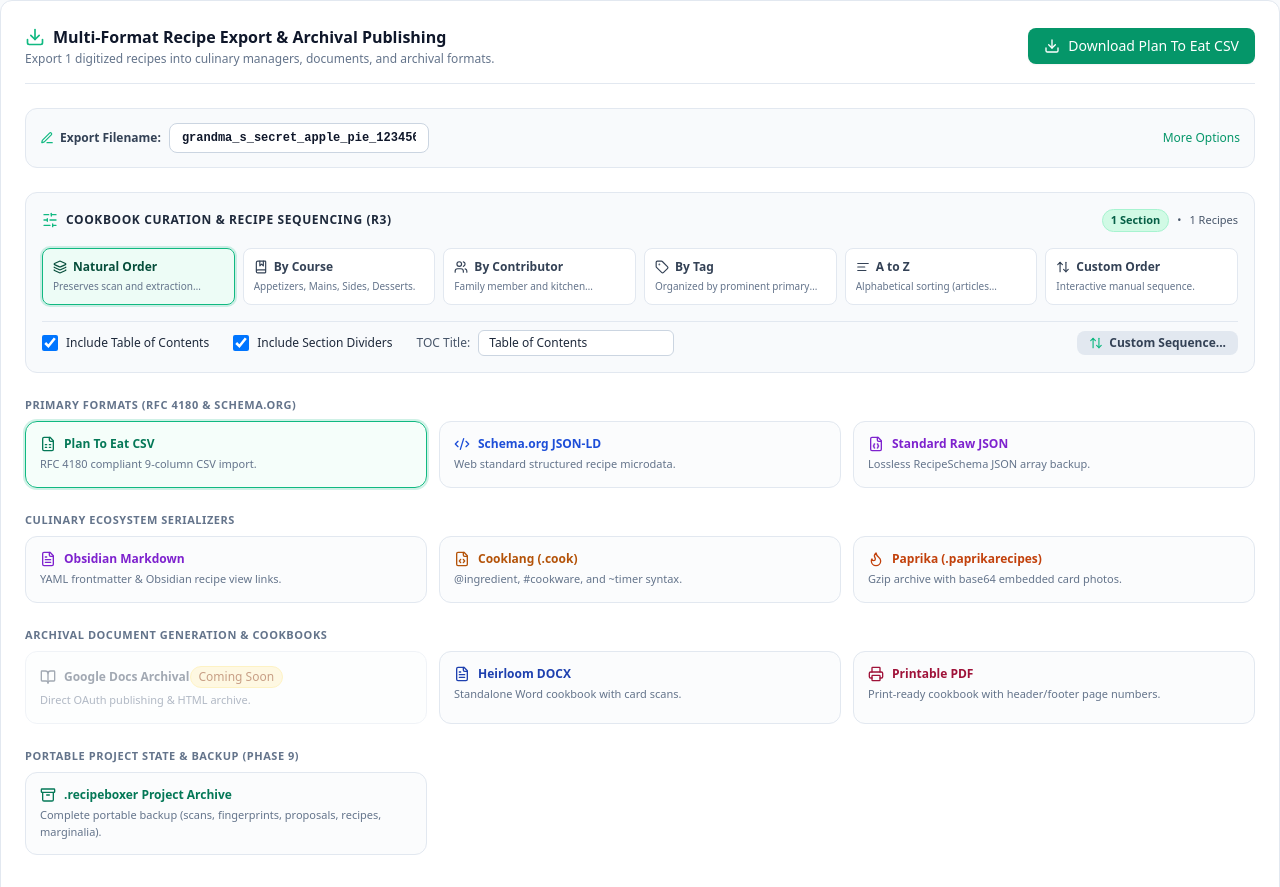
Test: R5: Multi-Format Recipe Export Subsystem › ExportDialog UI Component › GAP-04: allows editing filename and updates extension when switching format tabs
The image size is (1280, 887).
# Edit filename stem
Replace the text in the field labelled "Export Filename:" with "grandma_secret_pie_2026.csv" at (299, 138), box [169,123,429,153]
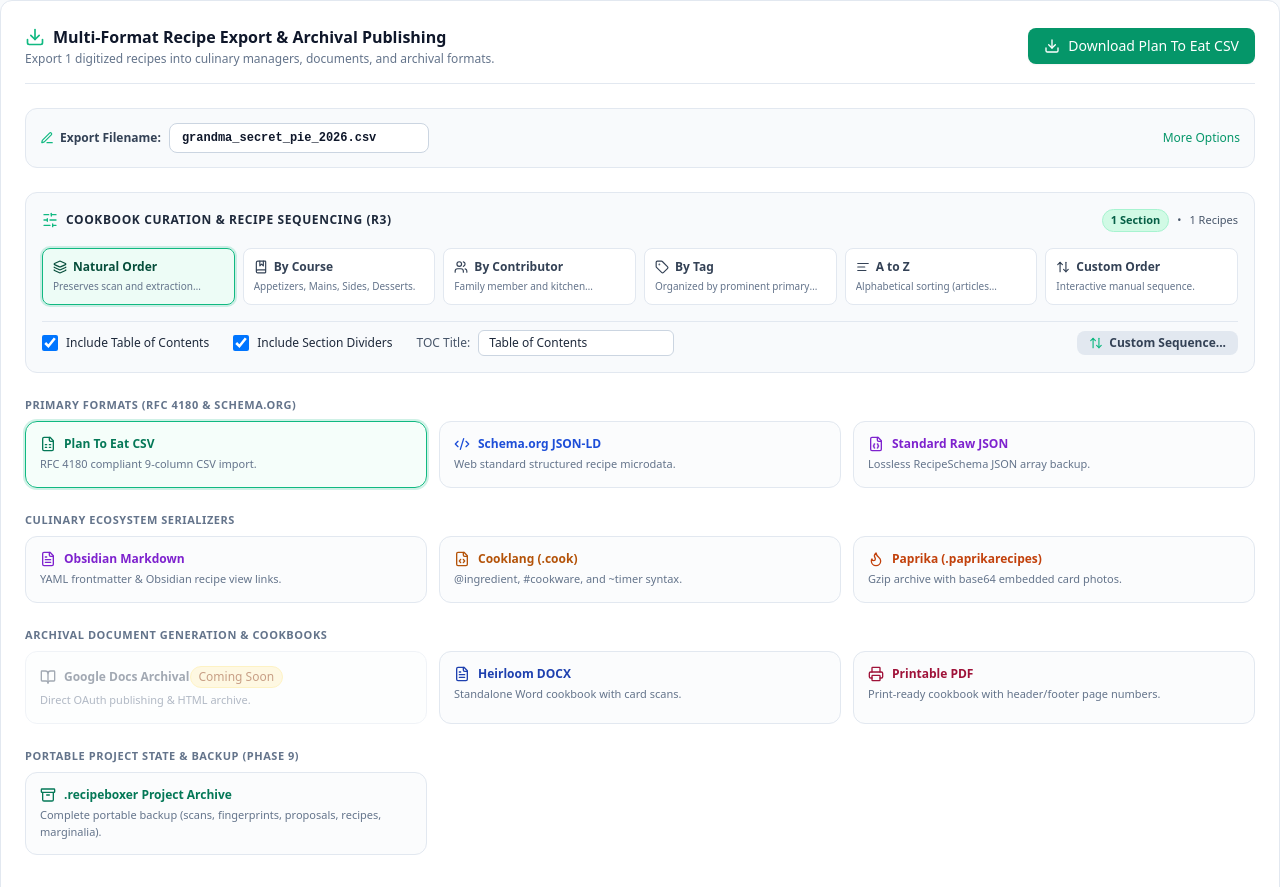
Click the button "Printable PDF" at (1054, 687), box [853,651,1255,724]
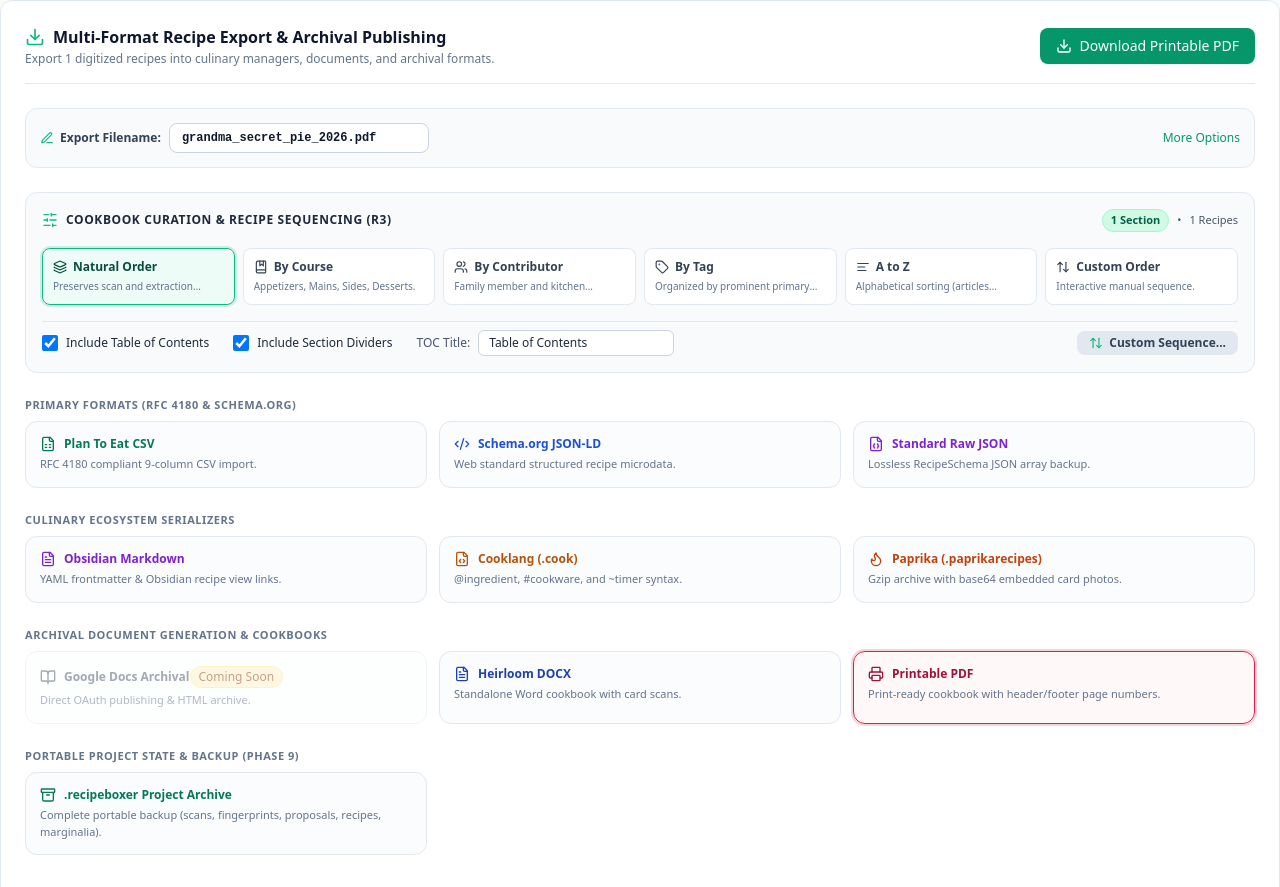
Now the field labelled "Export Filename:" holds "grandma_secret_pie_2026.pdf", box [169,123,429,153]
Click the button "Cooklang (.cook) @ingredient, #cookware, and ~timer syntax." at (640, 569), box [439,536,841,602]
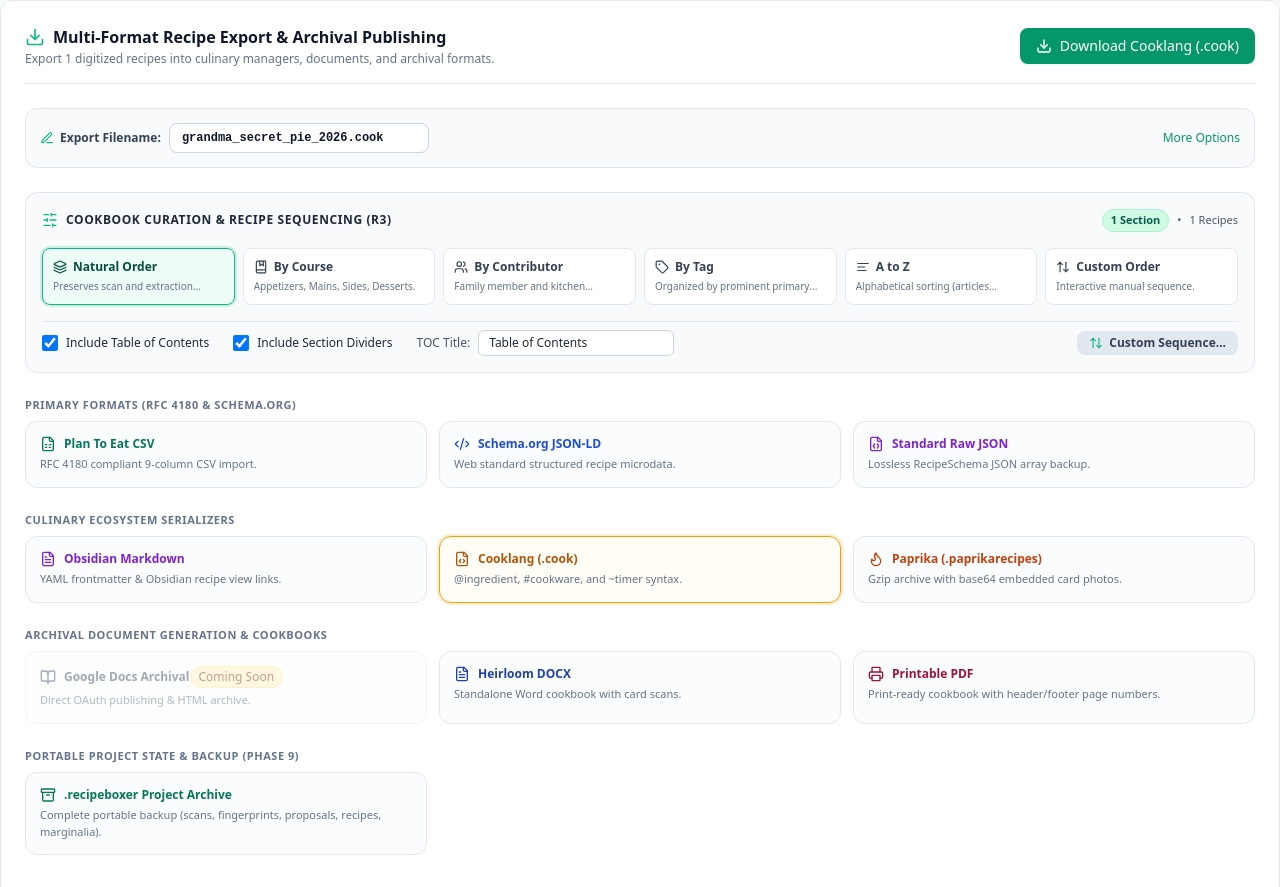
Now the field labelled "Export Filename:" holds "grandma_secret_pie_2026.cook", box [169,123,429,153]
